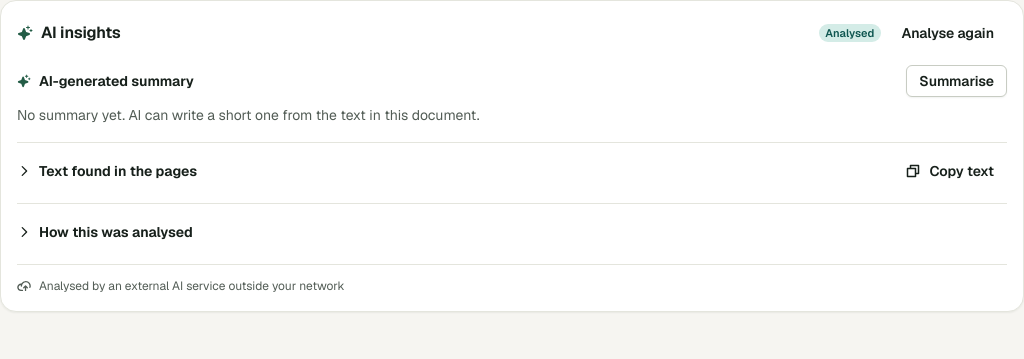
Scenario: AI panel: summary › shows the server's reason when a summary cannot be made
What coordinates should you click on to do the following:
click the button "Summarise"
I would click on:
 (957, 81)
Its box is [906,65,1007,97].
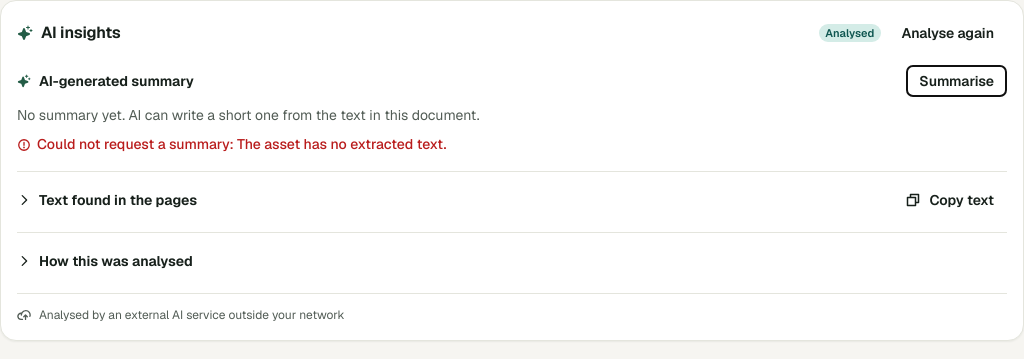
Now the text "Could not request a summary: The asset has no extracted text." is shown, box [17,135,446,153]
